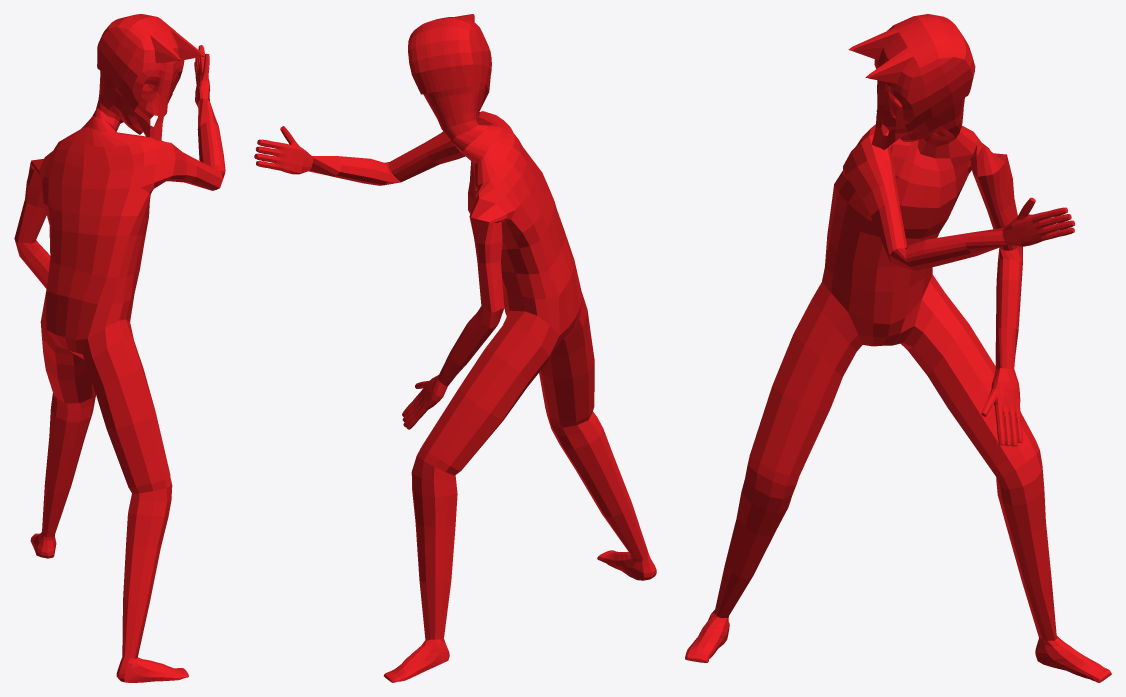
Rendered from activaAlarma_000113.obj.
3 renders of one model, left to right at view 1: azimuth 30°, elevation 25°; view 2: azimuth 150°, elevation 25°; view 3: azimuth 270°, elevation 25°, orthographic. The views are drawn at different scales.
Parts seen in each view (by area): view 1: Plane.002_Plane.001; view 2: Plane.002_Plane.001; view 3: Plane.002_Plane.001.
Boxes of the visible parts, x1,y1,x2,y2 form: Plane.002_Plane.001: [14, 14, 225, 682]; Plane.002_Plane.001: [254, 14, 656, 682]; Plane.002_Plane.001: [685, 14, 1111, 682].
Size of the model in its own units: 2.79 by 6.57 by 3.77.
